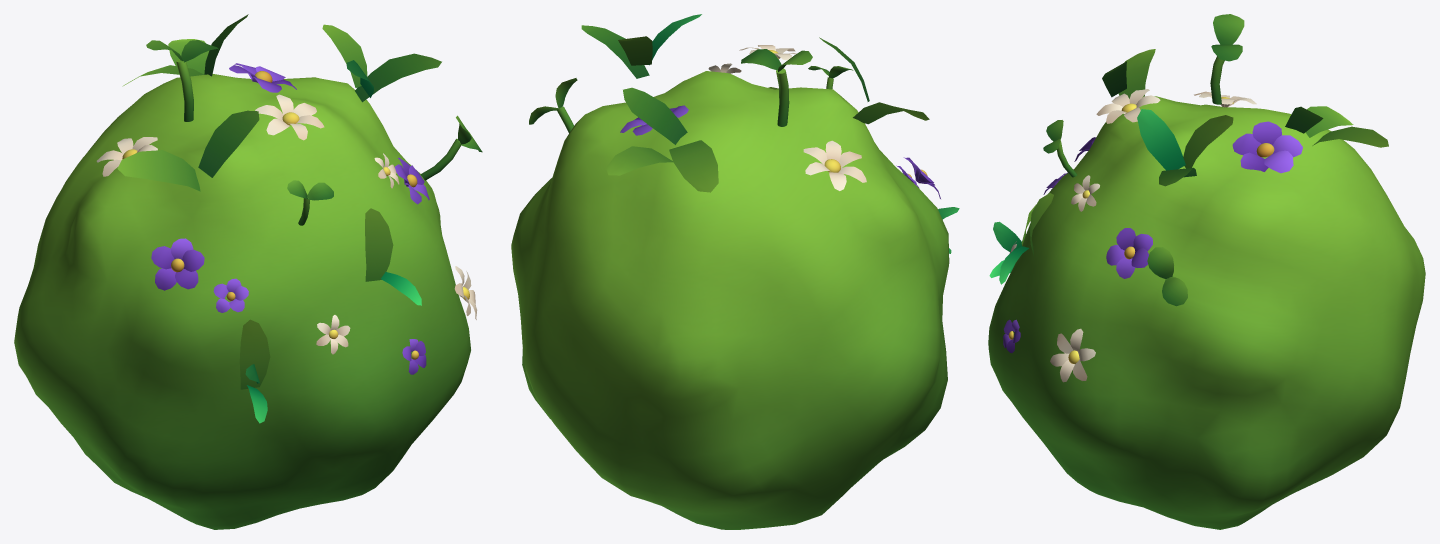
The model's file is Bush.fbx.
3 views of the same model, side by side, from view 1: azimuth 30°, elevation 25°; view 2: azimuth 150°, elevation 25°; view 3: azimuth 270°, elevation 25° (orthographic). The views are drawn at different scales.
Visible parts, largest first — view 1: Arbusto, pPlane84, pPlane83, pPlane81, pPlane88, pPlane79, pPlane78, Tallo, pPlane87, pPlane82; view 2: Arbusto, pPlane85, pPlane86, pPlane87, pPlane79, pPlane78, pPlane84, Tallo, Hoja1; view 3: Arbusto, pPlane80, Hoja2 (×2), pPlane78, pPlane84, pPlane87, pPlane85, pPlane86, Hoja1, pPlane83, PetaloLila4, pPlane90.
Boxes of the visible parts, x1,y1,x2,y2 form: Arbusto: (14, 74, 470, 529); pPlane84: (117, 150, 200, 191); pPlane83: (198, 110, 259, 177); pPlane81: (365, 208, 393, 281); pPlane88: (239, 319, 270, 389); pPlane79: (355, 53, 441, 102); pPlane78: (322, 24, 367, 87); Tallo: (176, 59, 193, 121); pPlane87: (168, 39, 208, 74); pPlane82: (381, 272, 421, 305); Arbusto: (511, 71, 949, 529); pPlane85: (669, 140, 718, 192); pPlane86: (623, 87, 687, 144); pPlane87: (606, 146, 672, 175); pPlane79: (581, 25, 649, 78); pPlane78: (618, 36, 652, 65); pPlane84: (853, 102, 929, 124); Tallo: (776, 68, 789, 126); Hoja1: (741, 49, 781, 70); Arbusto: (988, 96, 1425, 529); pPlane80: (1137, 109, 1185, 170); Hoja2 (×2): (1147, 14, 1244, 279); pPlane78: (1183, 115, 1233, 168); pPlane84: (1118, 49, 1155, 98); pPlane87: (1312, 126, 1388, 147); pPlane85: (1305, 106, 1353, 137); pPlane86: (1285, 106, 1323, 133); Hoja1: (1162, 277, 1187, 306); pPlane83: (1102, 61, 1126, 97); PetaloLila4: (1252, 121, 1281, 144); pPlane90: (993, 221, 1021, 252).
Bounding box in the file's own units: 2.4 × 2.58 × 2.27.
